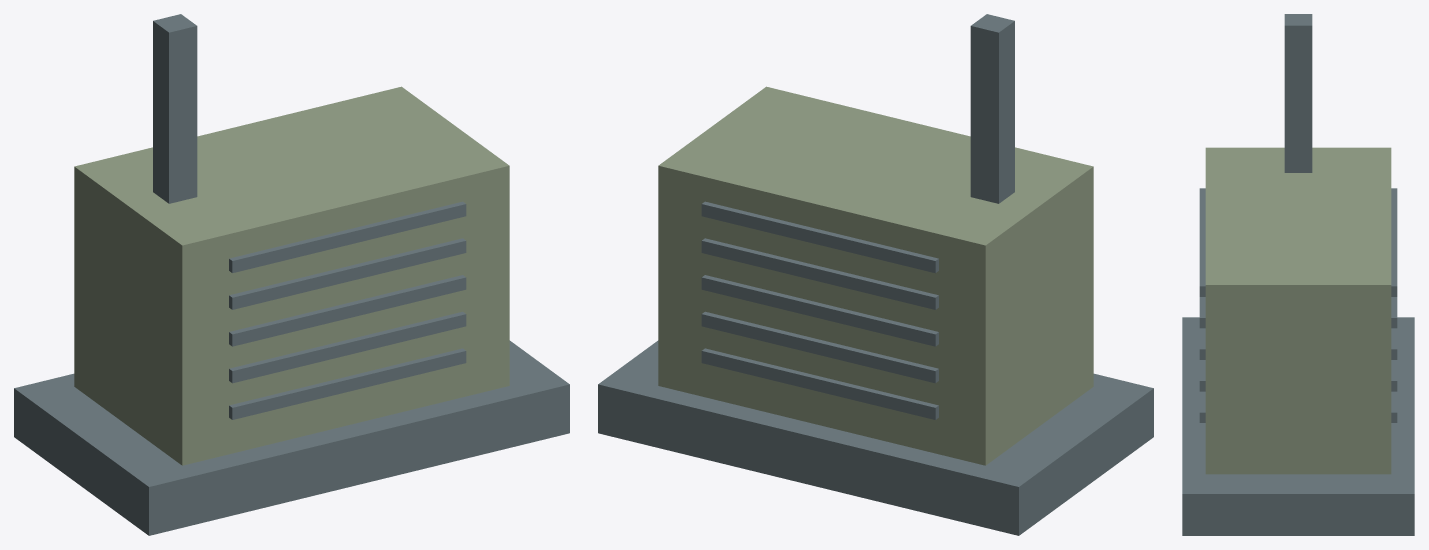
File: zombie-quarantine-streets-diesel-generator-b63e7795__19350.glb
3 renders of one model, left to right at view 1: azimuth 30°, elevation 25°; view 2: azimuth 150°, elevation 25°; view 3: azimuth 270°, elevation 25°, orthographic. The views are drawn at different scales.
Visible parts, largest first — view 1: diesel-generator; view 2: diesel-generator; view 3: diesel-generator.
Part boxes in pixels (x1,y1,x2,y2): diesel-generator: (14,14,569,535); diesel-generator: (598,14,1153,535); diesel-generator: (1182,14,1414,535).
Size of the model in its own units: 1.8 by 1.8 by 1.
